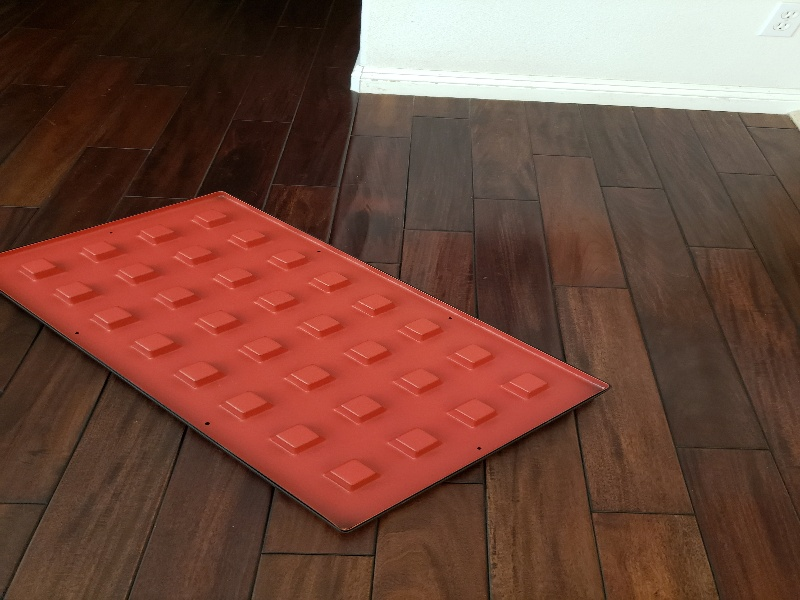skystone_base: (2, 169, 625, 542)
